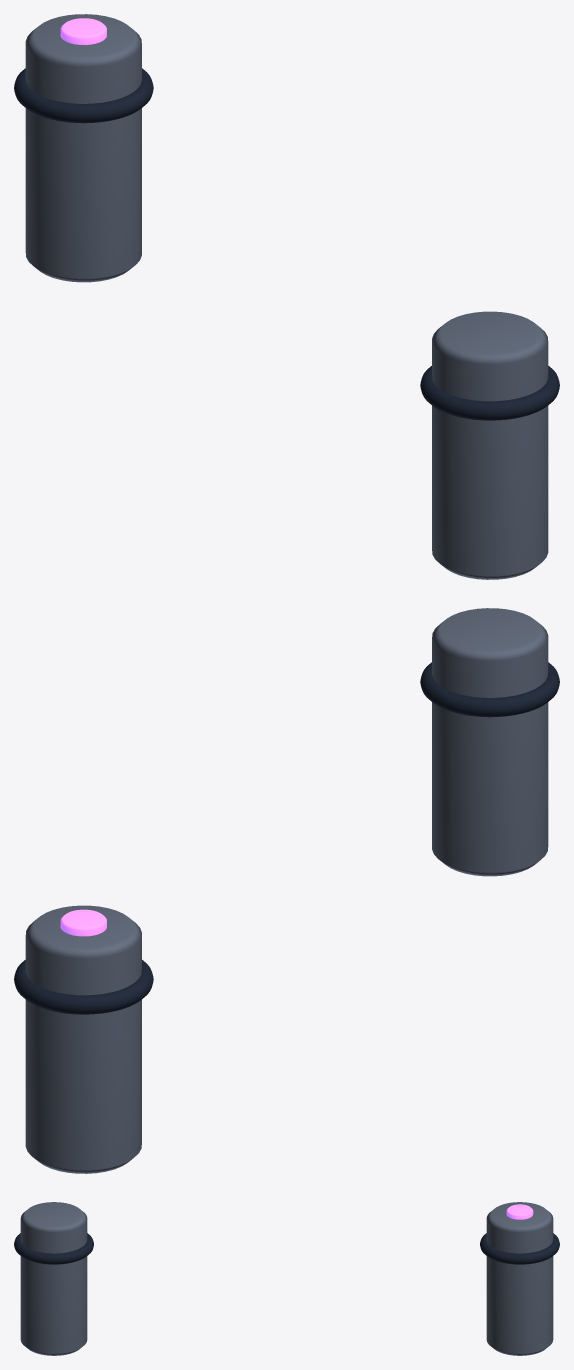
File: tower_singularity_rate_s2.glb
3 views of the same model, one above another, from view 1: azimuth 30°, elevation 25°; view 2: azimuth 150°, elevation 25°; view 3: azimuth 270°, elevation 25° (orthographic). The views are drawn at different scales.
Parts seen in each view (by area): view 1: singularity_stem_cap4.363323129985824, singularity_stem_cap1.9198621771937625, singularity_stem_cap_rib4.363323129985824, singularity_stem_cap_rib1.9198621771937625, singularity_up_rate_l2_stud; view 2: singularity_stem_cap4.363323129985824, singularity_stem_cap1.9198621771937625, singularity_stem_cap_rib1.9198621771937625, singularity_stem_cap_rib4.363323129985824, singularity_up_rate_l2_stud; view 3: singularity_stem_cap4.363323129985824, singularity_stem_cap1.9198621771937625, singularity_stem_cap_rib1.9198621771937625, singularity_stem_cap_rib4.363323129985824, singularity_up_rate_l2_stud.
Part boxes in pixels (x1=…): singularity_stem_cap4.363323129985824: x1=432, y1=311, x2=548, y2=579; singularity_stem_cap1.9198621771937625: x1=25, y1=14, x2=141, y2=282; singularity_stem_cap_rib4.363323129985824: x1=420, y1=366, x2=559, y2=420; singularity_stem_cap_rib1.9198621771937625: x1=14, y1=68, x2=153, y2=123; singularity_up_rate_l2_stud: x1=60, y1=18, x2=106, y2=44; singularity_stem_cap4.363323129985824: x1=432, y1=608, x2=548, y2=876; singularity_stem_cap1.9198621771937625: x1=25, y1=905, x2=141, y2=1173; singularity_stem_cap_rib1.9198621771937625: x1=14, y1=960, x2=153, y2=1014; singularity_stem_cap_rib4.363323129985824: x1=420, y1=662, x2=559, y2=717; singularity_up_rate_l2_stud: x1=60, y1=909, x2=106, y2=936; singularity_stem_cap4.363323129985824: x1=20, y1=1202, x2=87, y2=1355; singularity_stem_cap1.9198621771937625: x1=486, y1=1202, x2=553, y2=1355; singularity_stem_cap_rib1.9198621771937625: x1=480, y1=1233, x2=559, y2=1264; singularity_stem_cap_rib4.363323129985824: x1=14, y1=1233, x2=93, y2=1264; singularity_up_rate_l2_stud: x1=506, y1=1204, x2=533, y2=1219.
Size of the model in its own units: 0.168 by 0.311 by 1.15.
